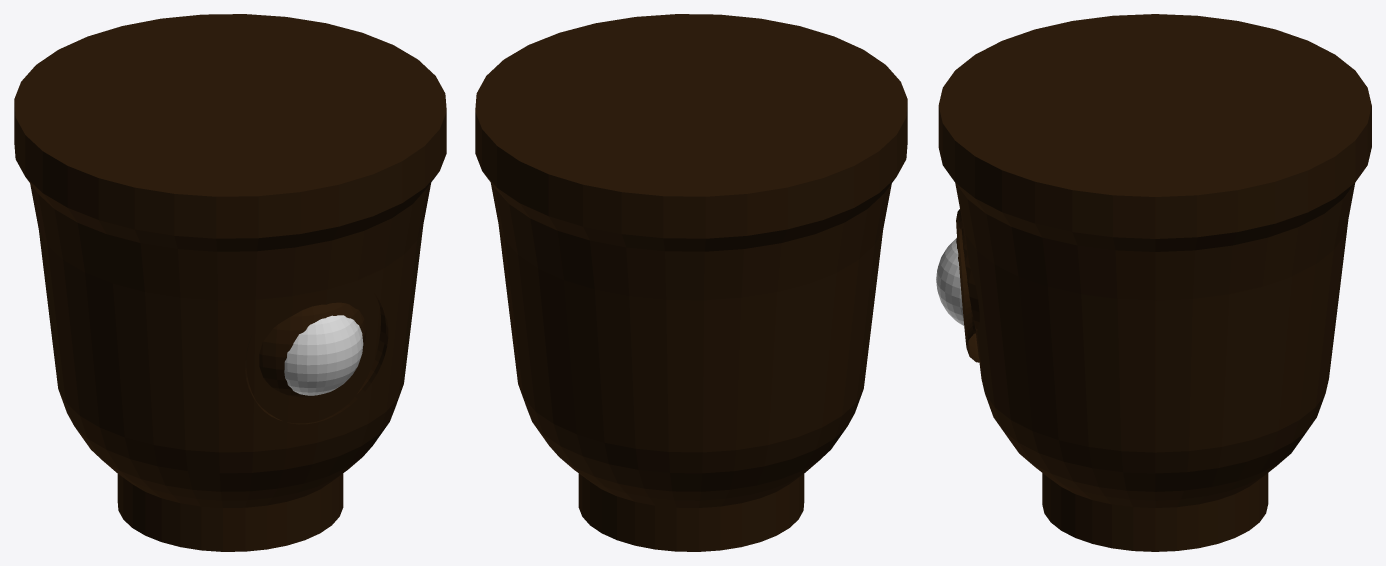
The model's file is kapsel.dae.
The picture shows the model from 3 angles, left to right: view 1: azimuth 30°, elevation 25°; view 2: azimuth 150°, elevation 25°; view 3: azimuth 270°, elevation 25°; orthographic projection.
Visible parts, largest first — view 1: Cylinder; view 2: Cylinder; view 3: Cylinder.
Boxes of the visible parts, <box> form: Cylinder: <box>14,14,446,551</box>; Cylinder: <box>475,14,907,551</box>; Cylinder: <box>936,14,1371,551</box>.
Bounding box in the file's own units: 2.13 × 2.14 × 2.17.
